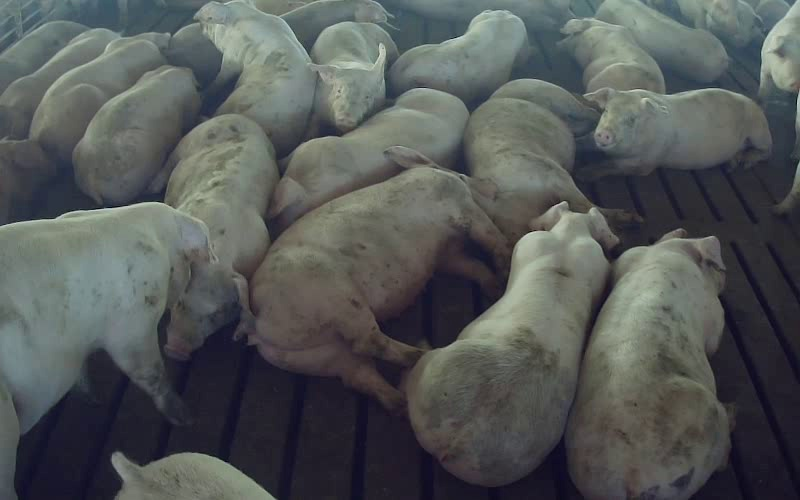pig: (249, 146, 510, 411), (0, 203, 208, 499), (405, 202, 617, 485), (565, 229, 730, 499), (150, 115, 278, 359), (268, 88, 468, 235), (464, 79, 598, 241), (195, 2, 316, 156), (72, 65, 200, 205), (576, 88, 771, 179), (388, 10, 531, 108), (308, 22, 397, 136)
